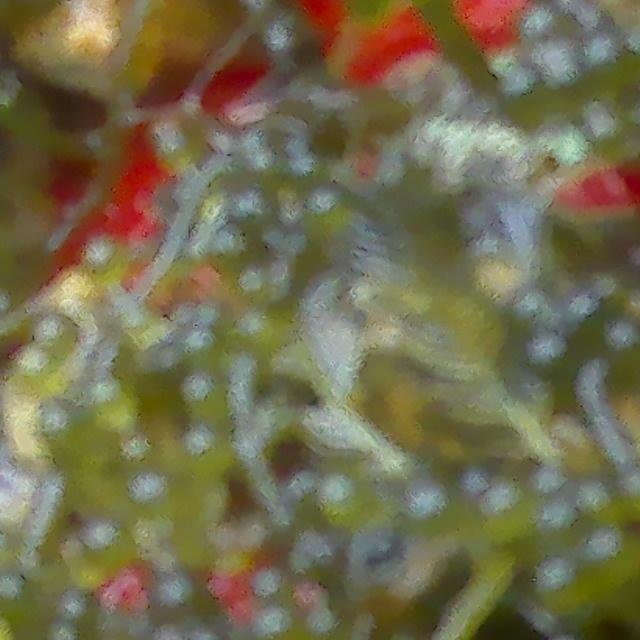SeaGrape: (307, 315, 361, 371)
